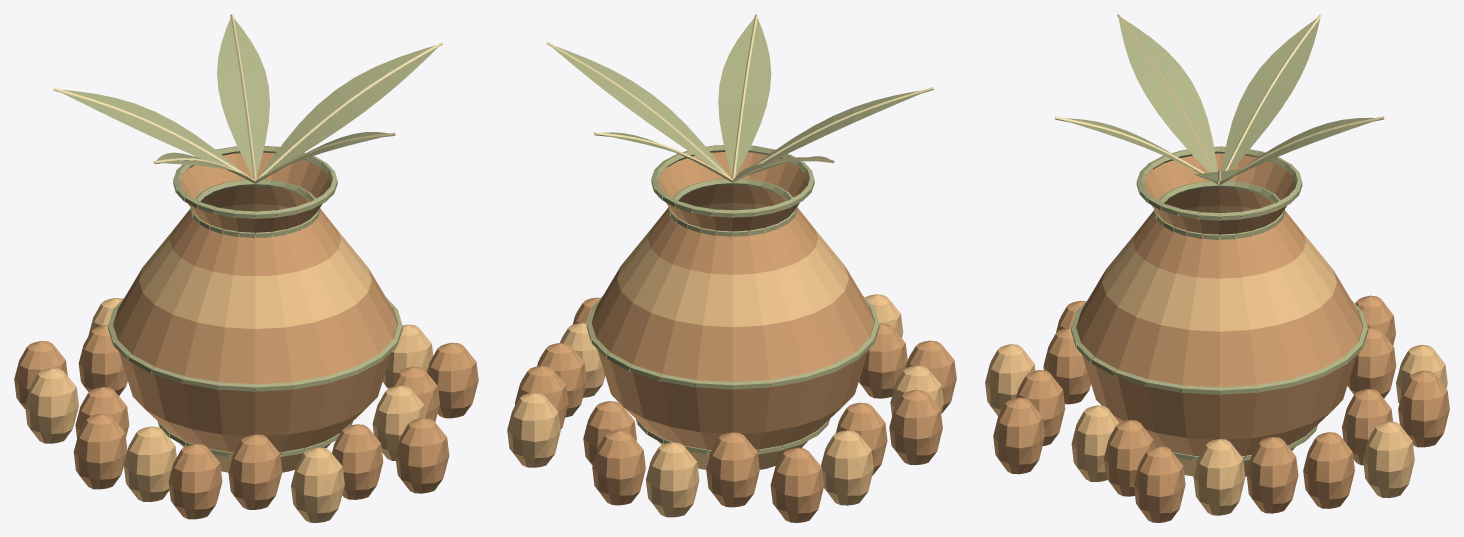
File: palm_oil.glb
The picture shows the model from 3 angles, left to right: view 1: azimuth 30°, elevation 25°; view 2: azimuth 150°, elevation 25°; view 3: azimuth 270°, elevation 25°; orthographic projection.
Parts seen in each view (by area): view 1: palm_oil; view 2: palm_oil; view 3: palm_oil.
Part boxes in pixels (<box>): palm_oil: <box>14,14,478,522</box>; palm_oil: <box>507,14,956,522</box>; palm_oil: <box>985,14,1449,522</box>.
Bounding box in the file's own units: 1.29 × 1.15 × 1.35.
